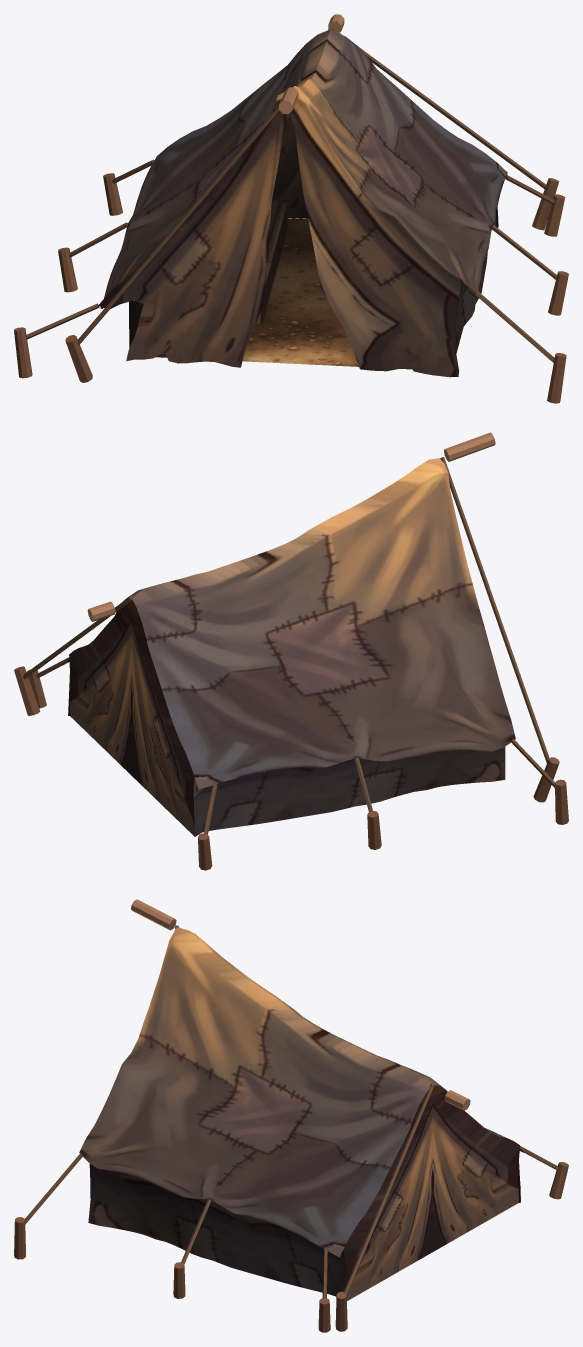
File: tente.glb
3 views of the same model, one above another, from view 1: azimuth 30°, elevation 25°; view 2: azimuth 150°, elevation 25°; view 3: azimuth 270°, elevation 25° (orthographic). The views are drawn at different scales.
Visible parts, largest first — view 1: maison; view 2: maison; view 3: maison.
Boxes of the visible parts, bbox=[...] form: maison: bbox=[14, 14, 568, 403]; maison: bbox=[14, 432, 568, 870]; maison: bbox=[14, 899, 568, 1332].
Bounding box in the file's own units: 4.62 × 2.38 × 4.44.
Materials: 1 (1 with a texture image).
